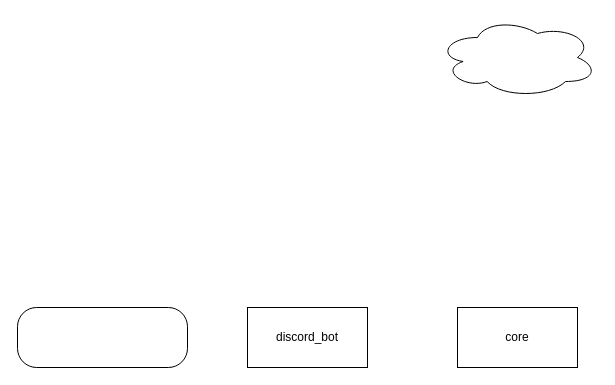
Some shapes in this 615 by 385 pixel diagram are drawn without their labels. Here are the shapes that lost their labels. From the top down, the box of each, then its label:
(436, 16, 598, 98): Ergast data
(16, 306, 188, 368): Discord Channel
